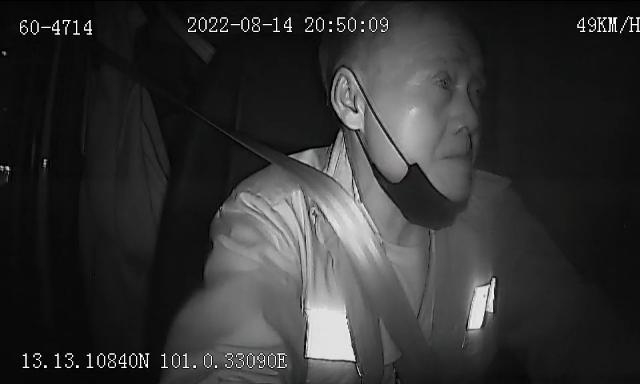SafeDriving: (428, 66, 456, 97)
Seatbelt: (237, 132, 446, 384)
